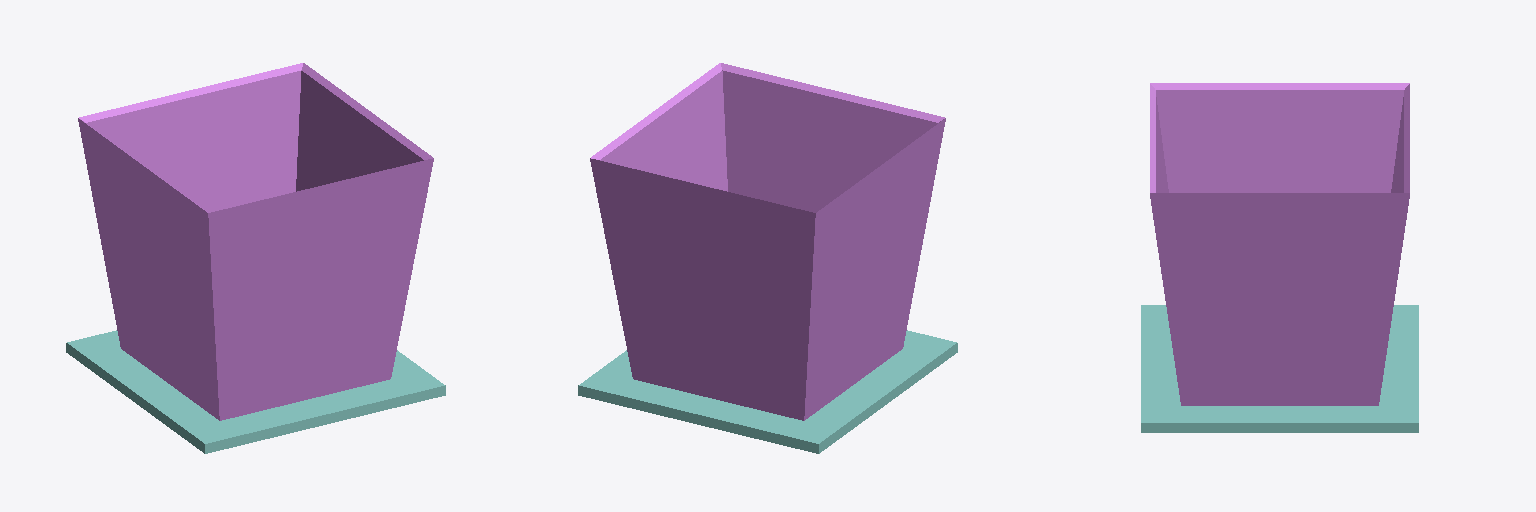
The model's file is Teleport.obj.
The picture shows the model from 3 angles: view 1: azimuth 30°, elevation 25°; view 2: azimuth 150°, elevation 25°; view 3: azimuth 270°, elevation 25°; orthographic projection.
Parts seen in each view (by area): view 1: Teleport; view 2: Teleport; view 3: Teleport.
Part boxes in pixels (left/top/right/bottom): Teleport: left=66, top=63, right=445, bottom=453; Teleport: left=578, top=63, right=957, bottom=453; Teleport: left=1141, top=83, right=1418, bottom=432.
Bounding box in the file's own units: 1 × 0.9393 × 1.